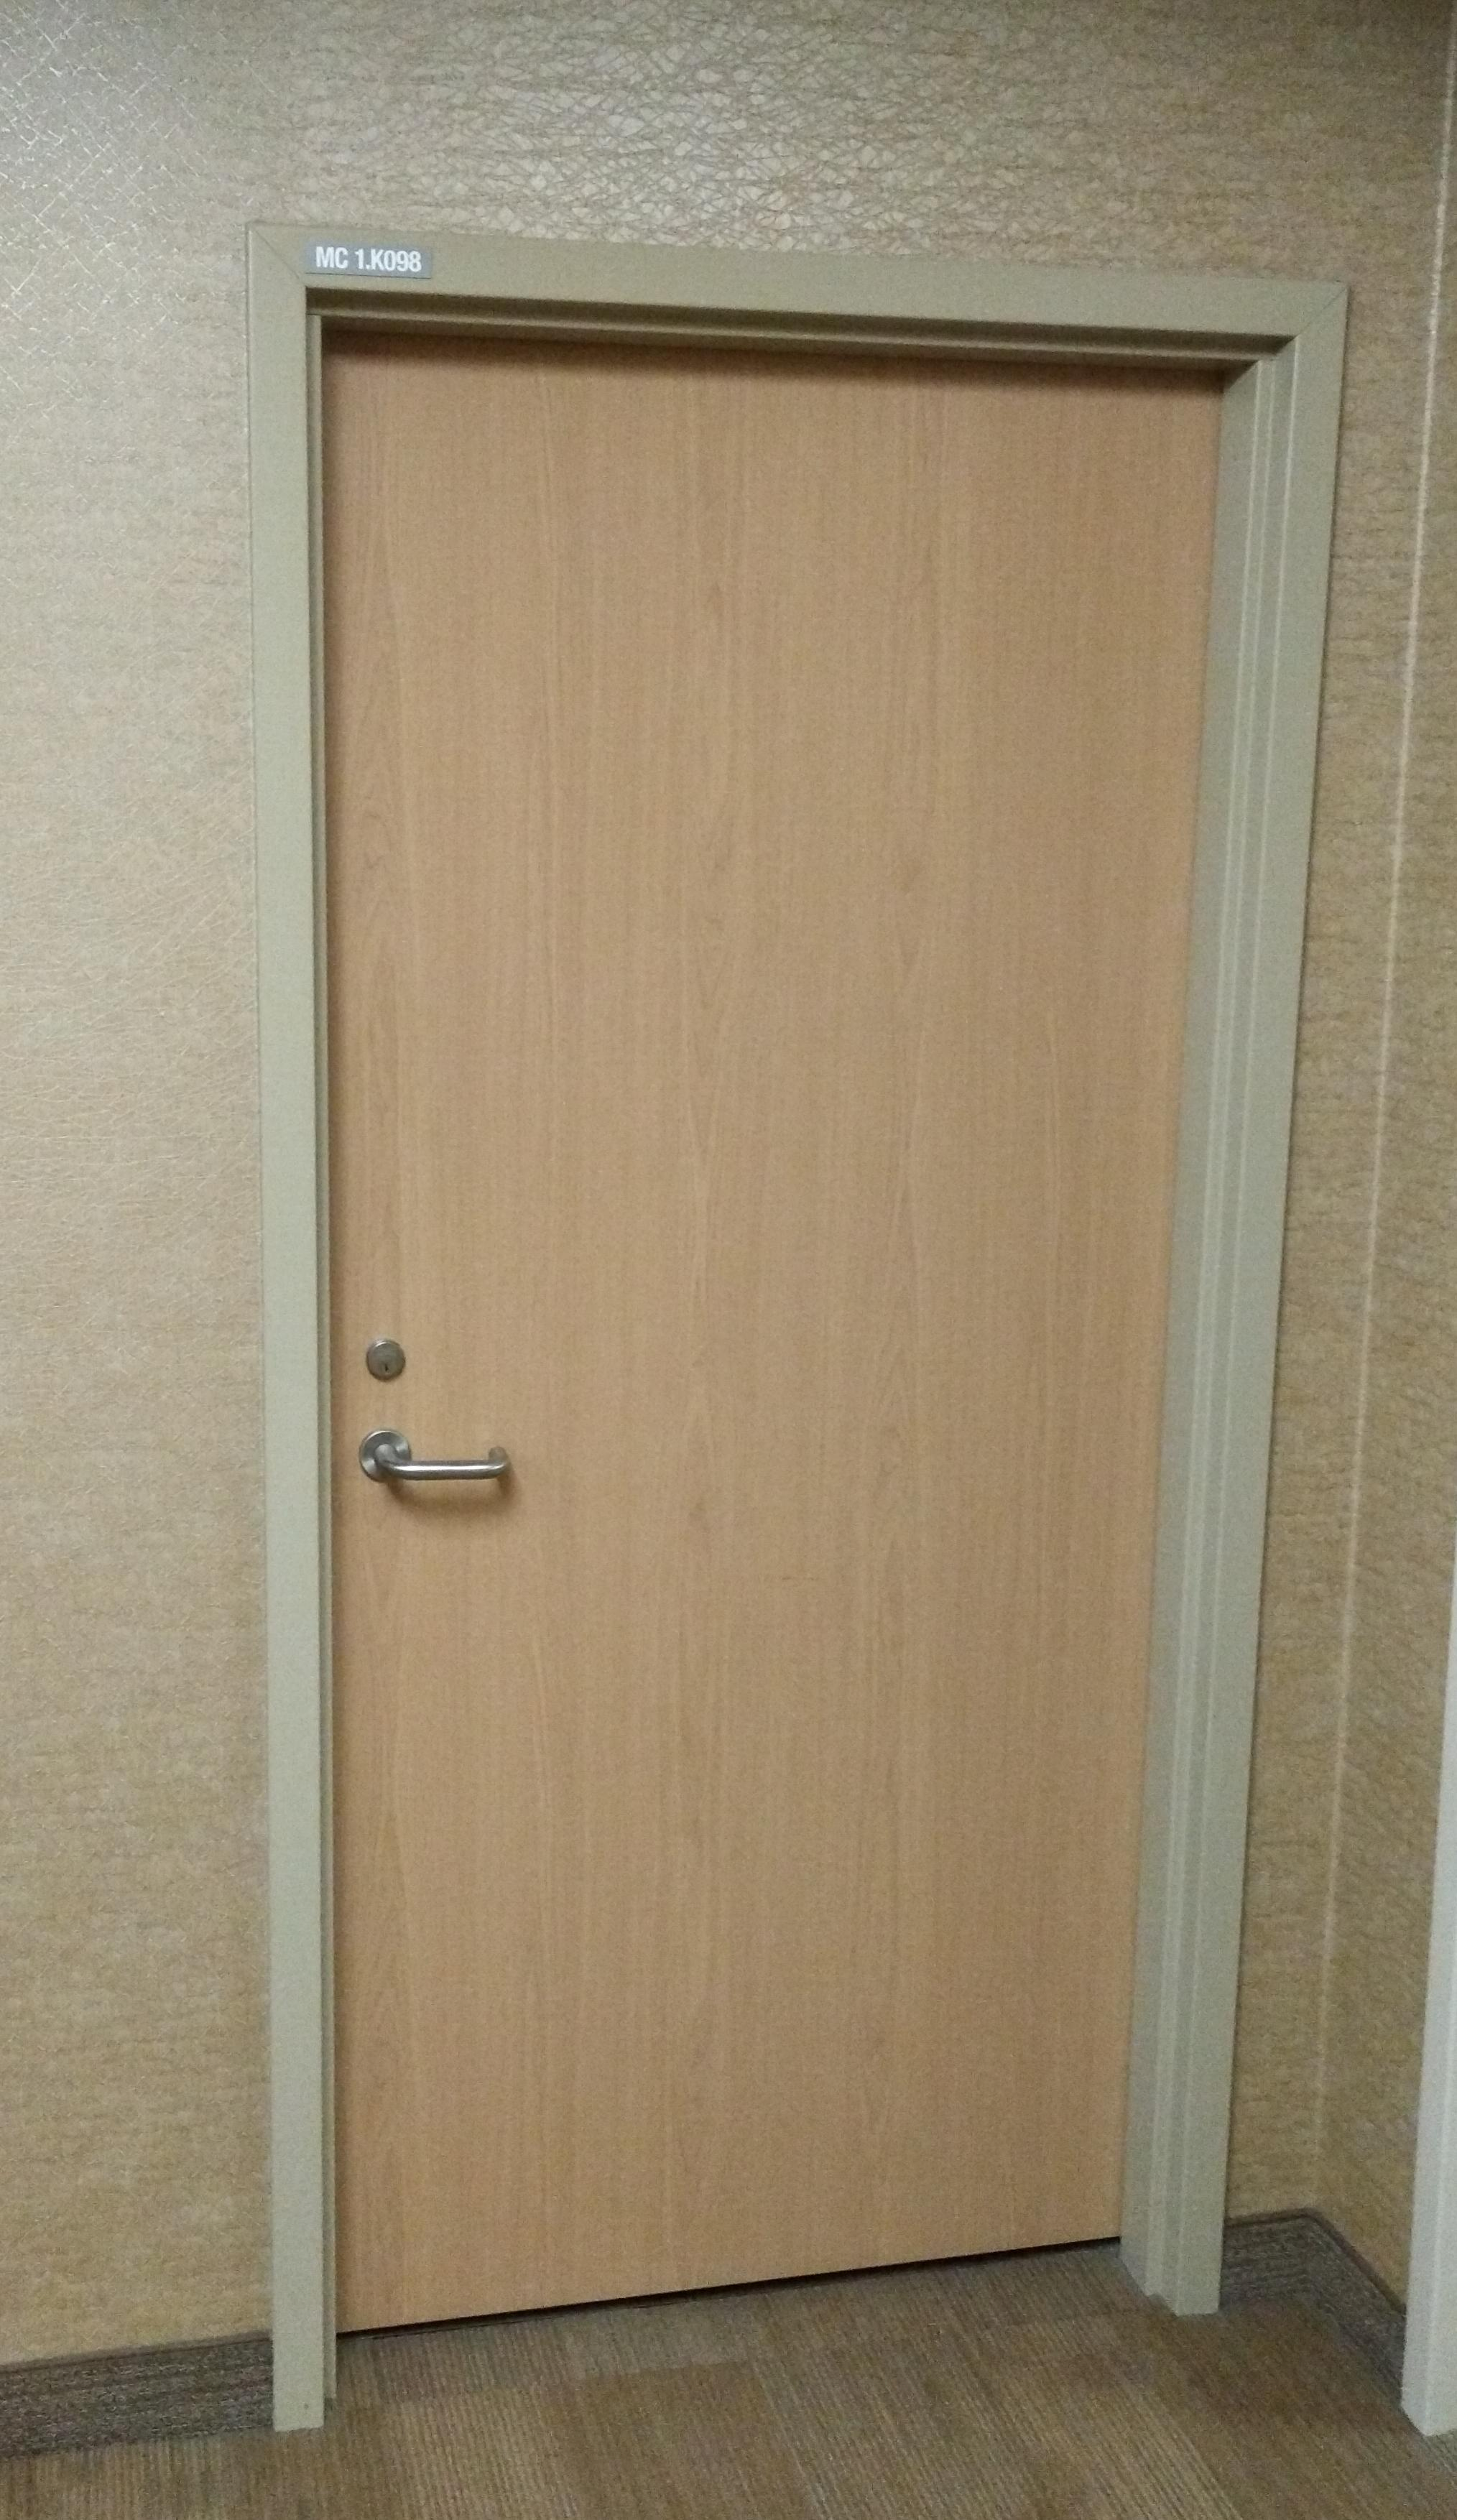handle: (380, 1441, 515, 1523)
